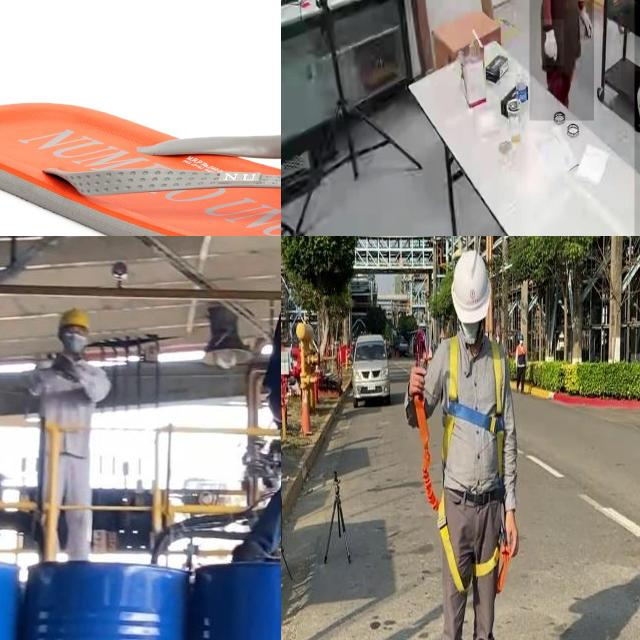Harness: (414, 397, 511, 594), (444, 336, 506, 482)
Sandals: (0, 98, 281, 236)
hand_glove: (540, 19, 564, 66), (578, 2, 592, 40), (636, 71, 640, 125)
person: (529, 0, 594, 121)
